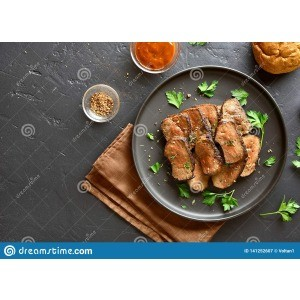liver_brain food: (161, 94, 262, 192)
